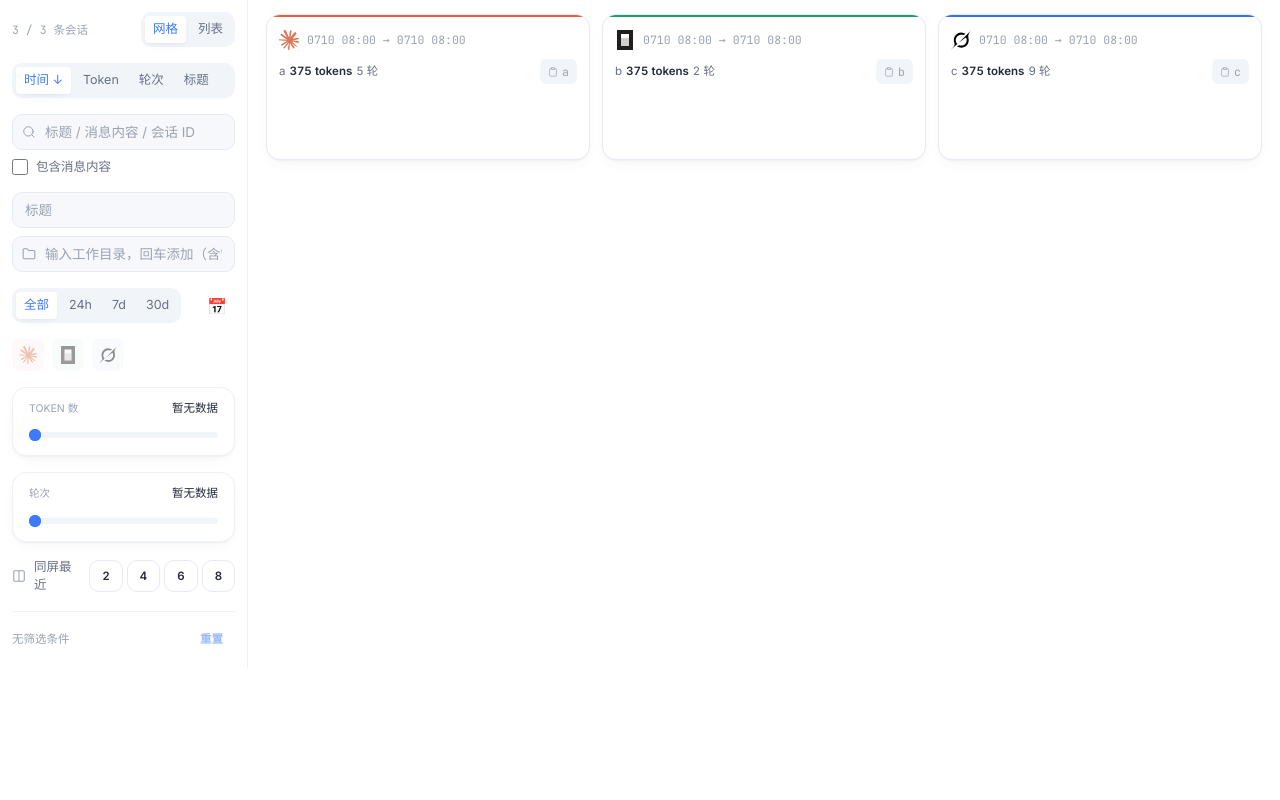
Test: SessionLibrary (t227) › 无匹配结果显示清空全部条件空态
In the field with placeholder "标题 / 消息内容 / 会话 ID": (124, 132) [12,114,235,150], type "不存在"
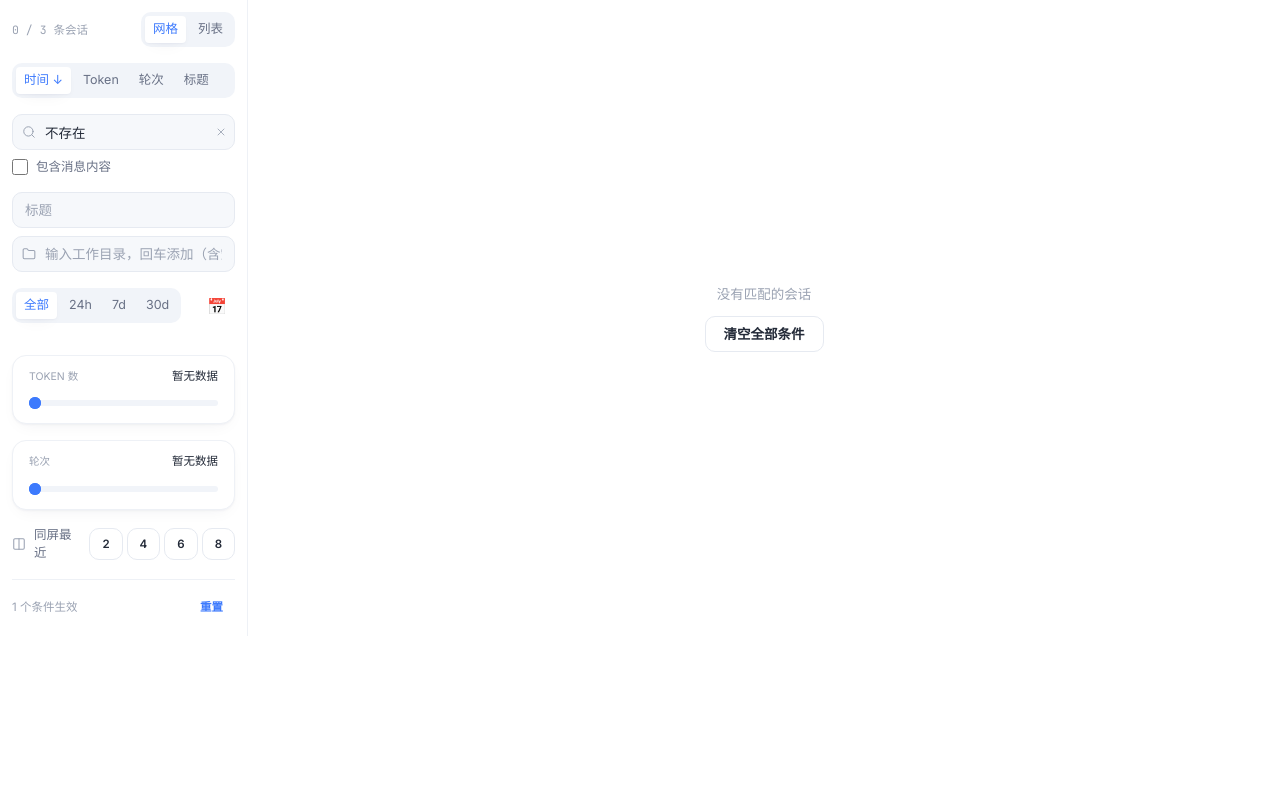
Expected: the text "没有匹配的会话" is shown, [717,284,811,304]
Expected: the button "清空全部条件" is shown, [704,316,824,352]
